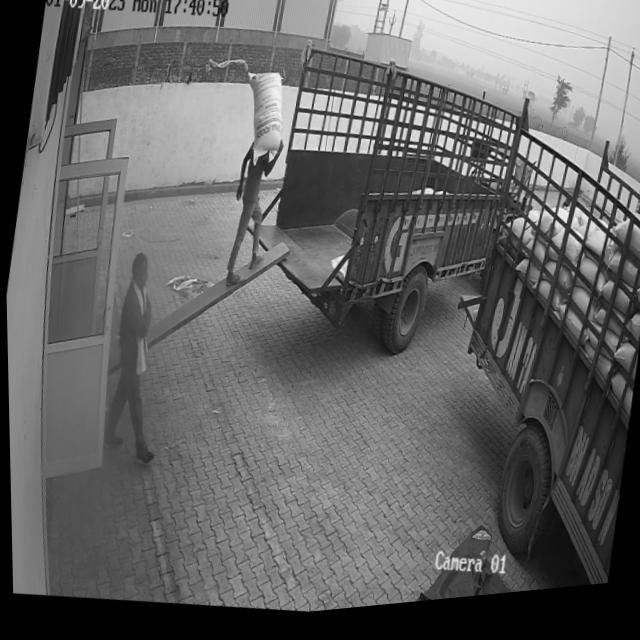sack: (234, 72, 291, 175)
